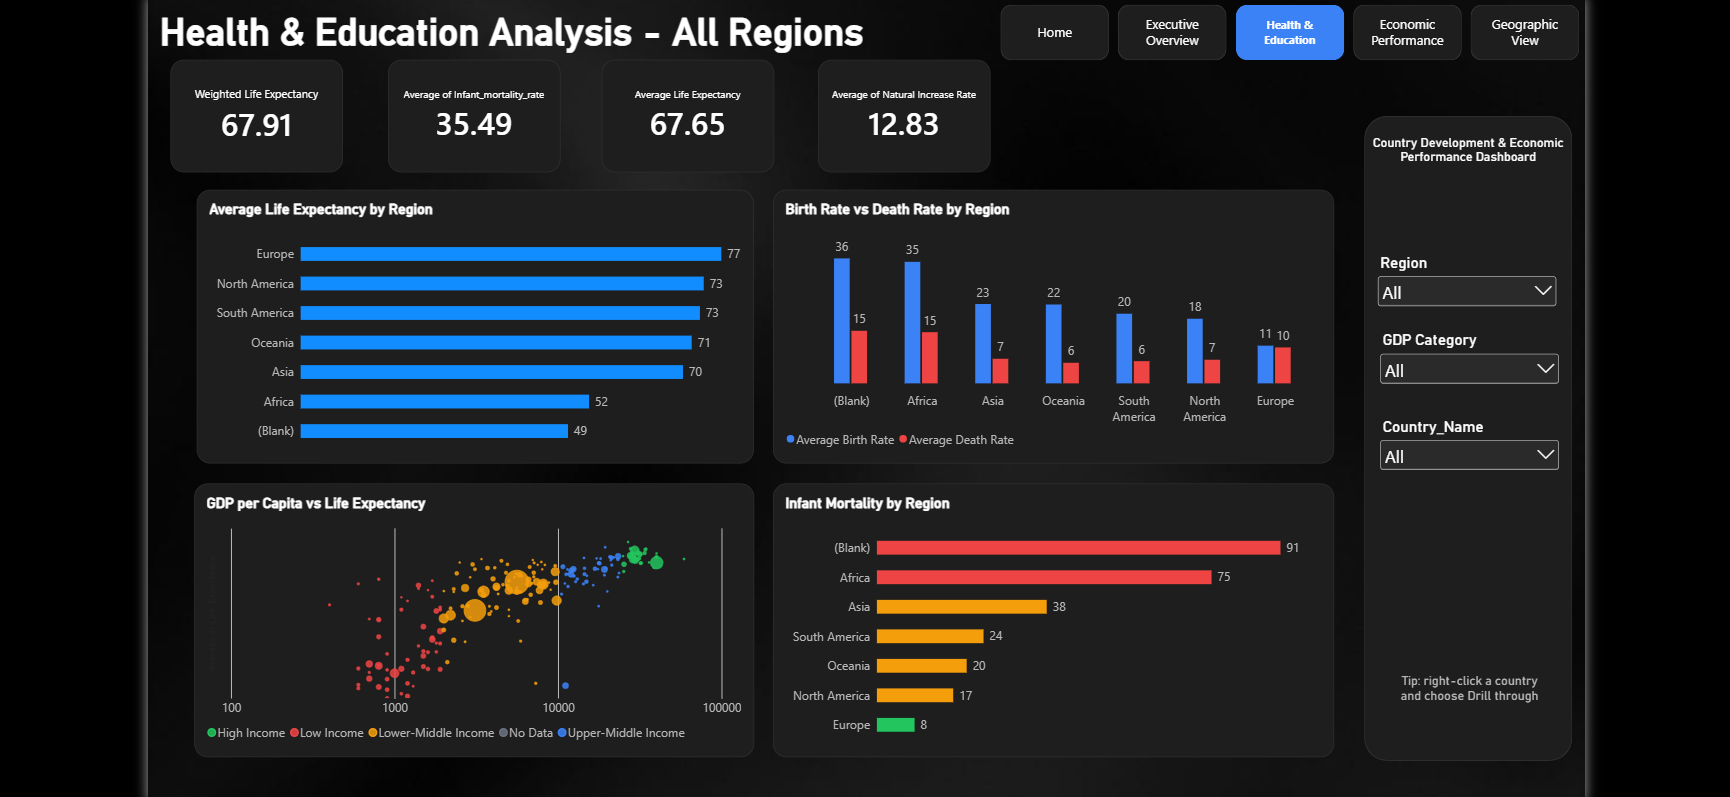

This screenshot's page, from the dashboard's own definition file:
{"tool":"powerbi","page":{"name":"Health & Education","canvas":[1920,1080],"ordinal":2},"visuals":[{"type":"shape","box":[1623.9,160.3,277.8,861.4],"z":0},{"type":"slicer","fields":{"Values":["Country Data Comparison.Country_Name"]},"box":[1640.7,562.7,248,72.7],"z":1000},{"type":"slicer","fields":{"Values":["Dim_Region.Region"]},"box":[1638.8,344.5,248,70.8],"z":2000},{"type":"slicer","fields":{"Values":["Country Data Comparison.GDP Category"]},"box":[1640.7,447.1,247.9,72.4],"z":3000},{"type":"textbox","box":[1661.2,904.3,208,48],"z":4000},{"type":"pageNavigator","box":[1139.2,11.2,775.6,74.6],"z":5000},{"type":"cardVisual","fields":{"Data":["AllMeasures.Health Title"]},"box":[0,0,1139.2,95.1],"z":6000},{"type":"cardVisual","fields":{"Data":["AllMeasures.Weighted Life Expectancy"]},"box":[29.8,85.8,230,150],"z":7000},{"type":"cardVisual","fields":{"Data":["Avg(Country Data Comparison.Infant_mortality_rate)"]},"box":[320.7,85.8,230,150],"z":8000},{"type":"cardVisual","fields":{"Data":["AllMeasures.Average Life Expectancy"]},"box":[605.9,85.8,230,150],"z":9000},{"type":"cardVisual","fields":{"Data":["Avg(Country Data Comparison.Natural Increase Rate)"]},"box":[894.9,85.8,230,150],"z":10000},{"type":"clusteredBarChart","fields":{"Category":["Dim_Region.Region"],"Y":["AllMeasures.Average Life Expectancy"]},"box":[65.3,259.2,743.9,365.4],"z":11000},{"type":"scatterChart","title":"GDP per Capita vs Life Expectancy","fields":{"Category":["Country Data Comparison.Country_Name"],"Series":["Country Data Comparison.Development Level"],"Size":["Sum(Country Data Comparison.Population)"],"X":["Avg(Country Data Comparison.GDP_Per_Capita)"],"Y":["Avg(Country Data Comparison.Life_Expectancy)"]},"box":[61.5,650.7,747.6,365.4],"z":12000},{"type":"clusteredColumnChart","title":"Birth Rate vs Death Rate by Region","fields":{"Category":["Dim_Region.Region"],"Y":["AllMeasures.Average Birth Rate","AllMeasures.Average Death Rate"]},"box":[835.3,259.2,749.5,365.4],"z":13000},{"type":"clusteredBarChart","title":"Infant Mortality by Region","fields":{"Category":["Dim_Region.Region"],"Y":["Avg(Country Data Comparison.Infant_mortality_rate)"]},"box":[835.3,650.7,749.5,365.4],"z":14000},{"type":"textbox","box":[1623.9,184.6,277.8,59.7],"z":15000}]}

Visuals, with their boxes on the page's 1920x1080 design canvas (x1, y1, x2, y2). These are canvas units, not pixel positions in the 1730x797 screenshot, which may show the page scaled, cropped or inside an application window:
shape: (1624, 160, 1902, 1022)
slicer - Country Data Comparison.Country_Name: (1641, 563, 1889, 635)
slicer - Dim_Region.Region: (1639, 344, 1887, 415)
slicer - Country Data Comparison.GDP Category: (1641, 447, 1889, 520)
textbox: (1661, 904, 1869, 952)
pageNavigator: (1139, 11, 1915, 86)
cardVisual - AllMeasures.Health Title: (0, 0, 1139, 95)
cardVisual - AllMeasures.Weighted Life Expectancy: (30, 86, 260, 236)
cardVisual - Avg(Country Data Comparison.Infant_mortality_rate): (321, 86, 551, 236)
cardVisual - AllMeasures.Average Life Expectancy: (606, 86, 836, 236)
cardVisual - Avg(Country Data Comparison.Natural Increase Rate): (895, 86, 1125, 236)
clusteredBarChart - Dim_Region.Region x AllMeasures.Average Life Expectancy: (65, 259, 809, 625)
"GDP per Capita vs Life Expectancy" scatterChart: (62, 651, 809, 1016)
"Birth Rate vs Death Rate by Region" clusteredColumnChart: (835, 259, 1585, 625)
"Infant Mortality by Region" clusteredBarChart: (835, 651, 1585, 1016)
textbox: (1624, 185, 1902, 244)
